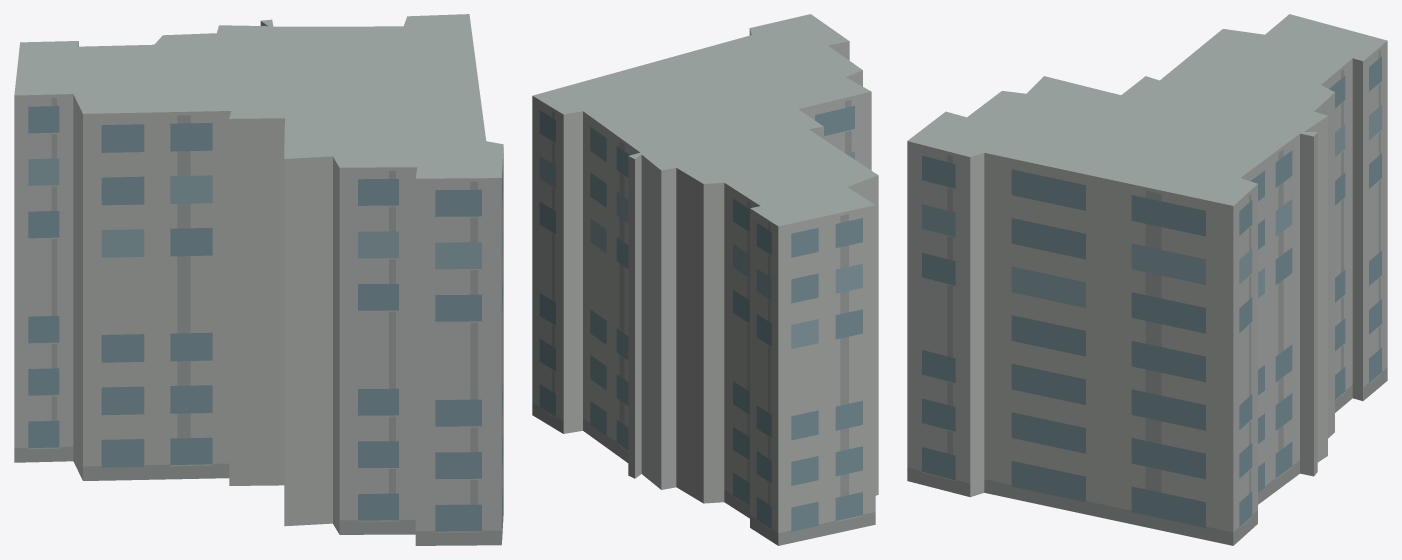
The model's file is survey-upis-32465184.glb.
3 renders of one model, left to right at view 1: azimuth 30°, elevation 25°; view 2: azimuth 150°, elevation 25°; view 3: azimuth 270°, elevation 25°, orthographic. The views are drawn at different scales.
Visible parts, largest first — view 1: survey-upis-32465184.tmp; view 2: survey-upis-32465184.tmp; view 3: survey-upis-32465184.tmp.
Part boxes in pixels (x1=…): survey-upis-32465184.tmp: x1=14, y1=14, x2=503, y2=545; survey-upis-32465184.tmp: x1=532, y1=14, x2=878, y2=545; survey-upis-32465184.tmp: x1=907, y1=14, x2=1387, y2=545.
Size of the model in its own units: 30.52 by 25.2 by 32.28.
